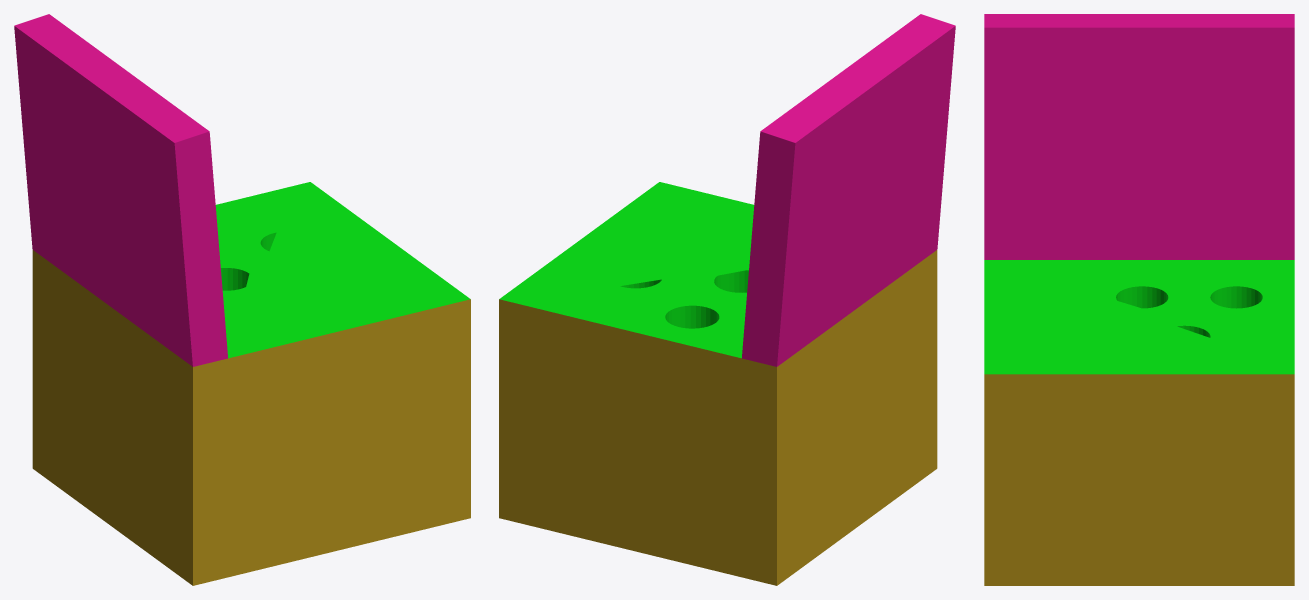
The model's file is WackAMole.fbx.
3 views of the same model, side by side, from view 1: azimuth 30°, elevation 25°; view 2: azimuth 150°, elevation 25°; view 3: azimuth 270°, elevation 25° (orthographic). The views are drawn at different scales.
Parts seen in each view (by area): view 1: Box; view 2: Box; view 3: Box.
Boxes of the visible parts, box(x1,y1,x2,y2) form: Box: box(14, 14, 470, 585); Box: box(499, 14, 955, 585); Box: box(984, 14, 1294, 585).
Bounding box in the file's own units: 374 × 543 × 351.
